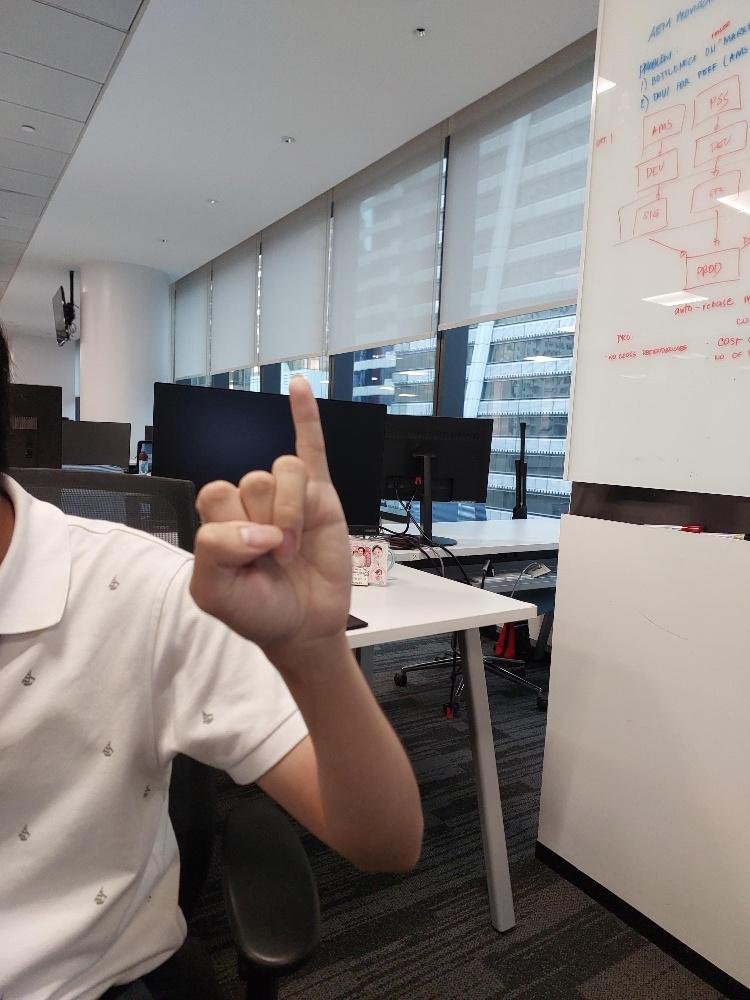i: (186, 366, 354, 646)
